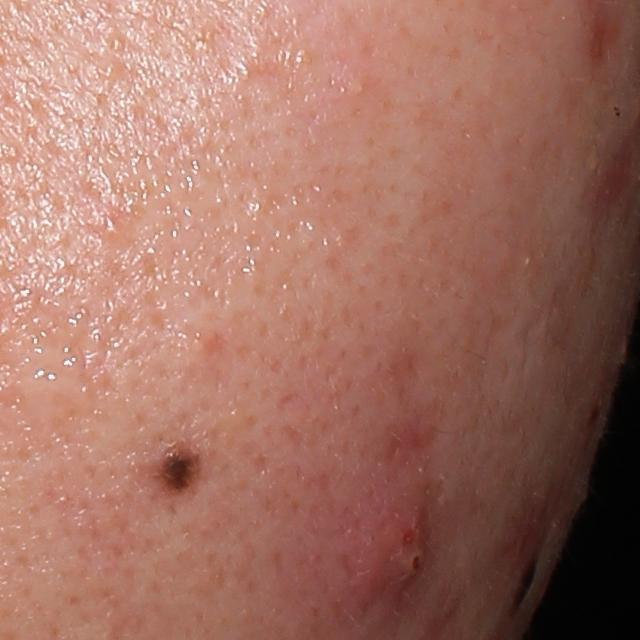nevus: (154, 441, 203, 497), (511, 552, 538, 618)
nodule: (343, 473, 435, 617)
